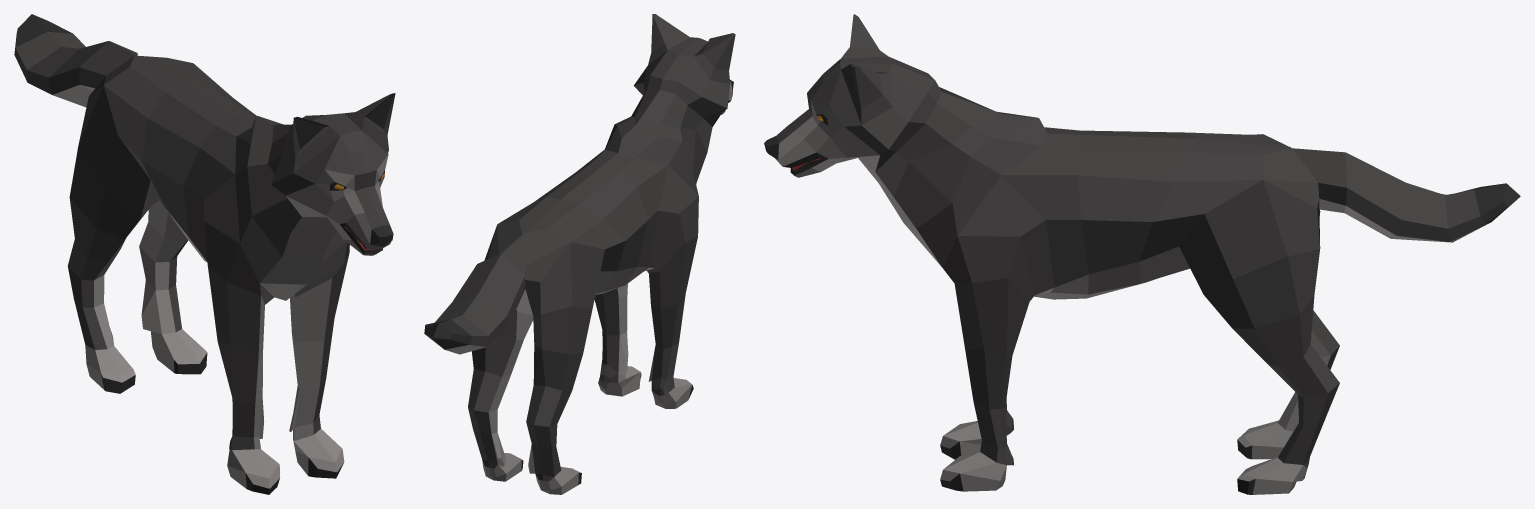
File: wolf.glb
3 renders of one model, left to right at view 1: azimuth 30°, elevation 25°; view 2: azimuth 150°, elevation 25°; view 3: azimuth 270°, elevation 25°, orthographic. The views are drawn at different scales.
Parts seen in each view (by area): view 1: wolf; view 2: wolf; view 3: wolf.
Boxes of the visible parts, x1,y1,x2,y2 form: wolf: [14, 14, 395, 494]; wolf: [424, 14, 735, 494]; wolf: [764, 14, 1520, 494].
Bounding box in the file's own units: 0.3512 × 1.1 × 1.75.
1 material, 1 textured.
